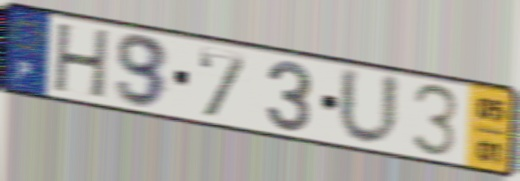3: (410, 81, 461, 161), (264, 58, 314, 134)
7: (195, 44, 250, 121)
9: (112, 32, 173, 111)
H: (50, 21, 114, 102)
U: (335, 63, 403, 150)
